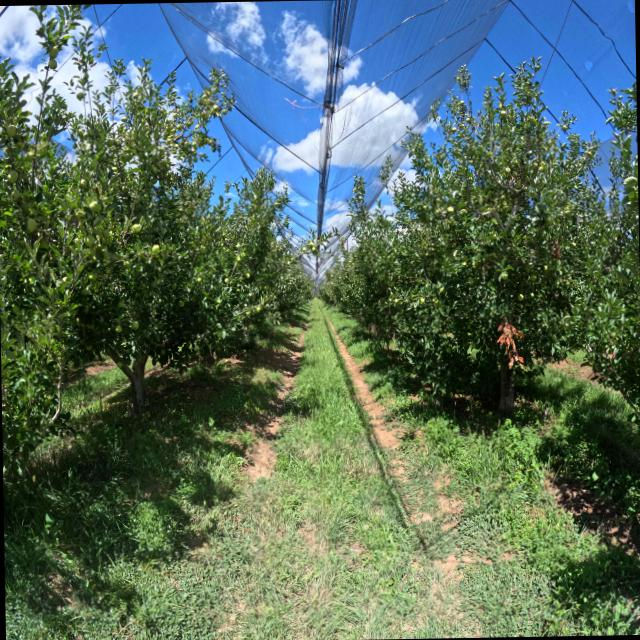-FireBlight-: (497, 321, 525, 370)
